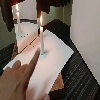fire: (39, 13, 42, 28)
